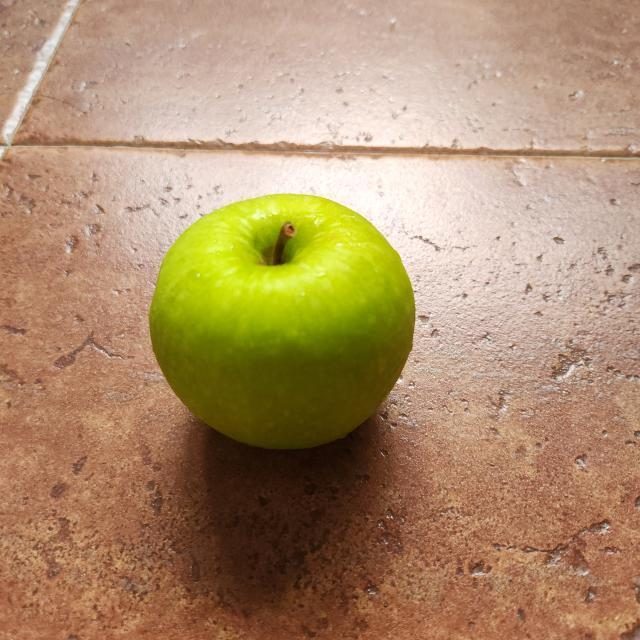apple: (141, 190, 430, 456)
